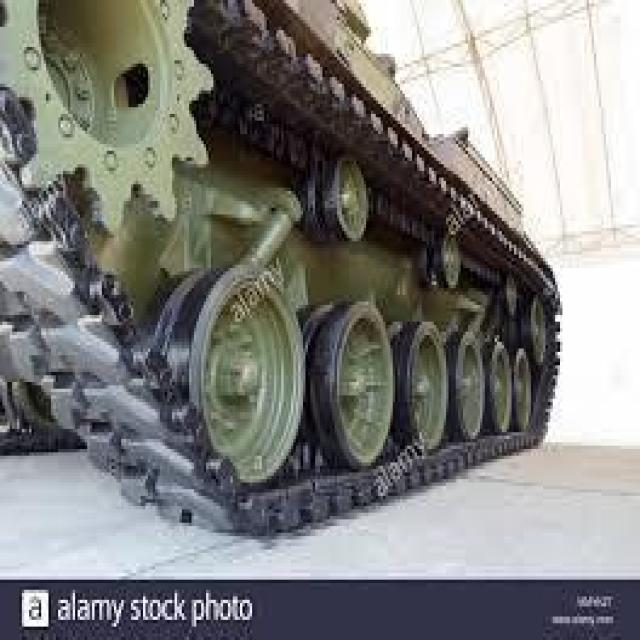Tanks: (1, 6, 583, 532)
